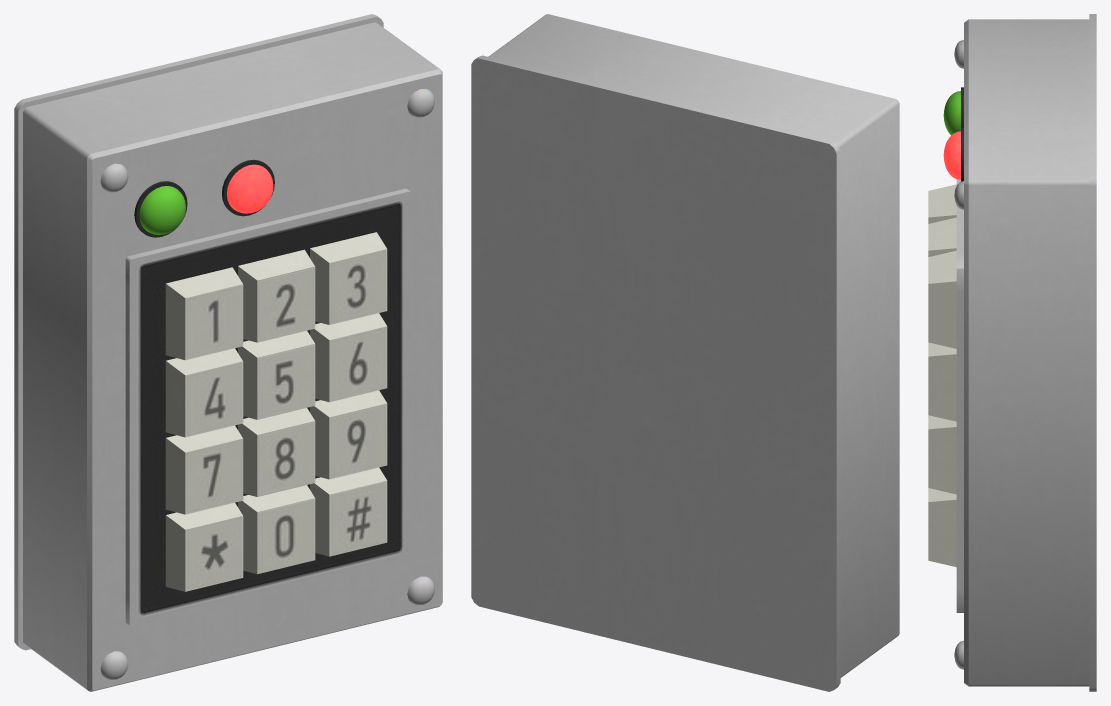
The model's file is drawer-keypad.glb.
3 views of the same model, side by side, from view 1: azimuth 30°, elevation 25°; view 2: azimuth 150°, elevation 25°; view 3: azimuth 270°, elevation 25° (orthographic). The views are drawn at different scales.
Visible parts, largest first — view 1: KeypadDoorLock; view 2: KeypadDoorLock; view 3: KeypadDoorLock.
Part boxes in pixels (<box>): KeypadDoorLock: <box>14,14,442,691</box>; KeypadDoorLock: <box>471,14,899,691</box>; KeypadDoorLock: <box>928,14,1096,691</box>.
Bounding box in the file's own units: 9.24 × 13.24 × 3.92.
Materials: 1 (1 with a texture image).
